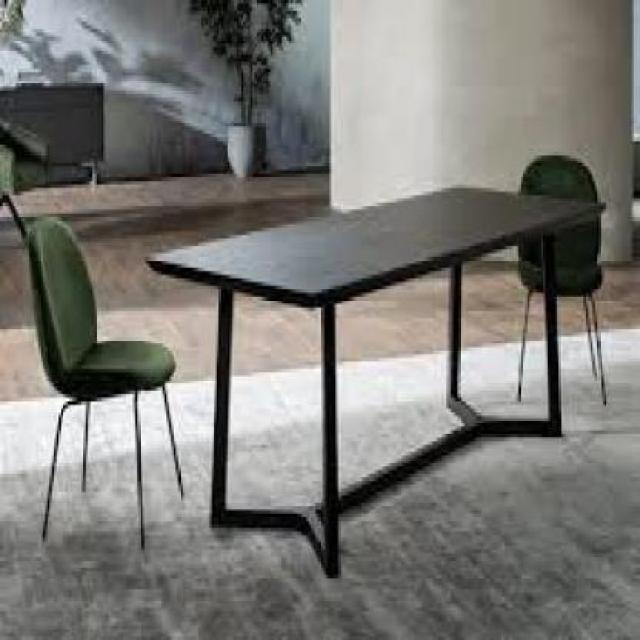tables: (143, 184, 606, 578)
